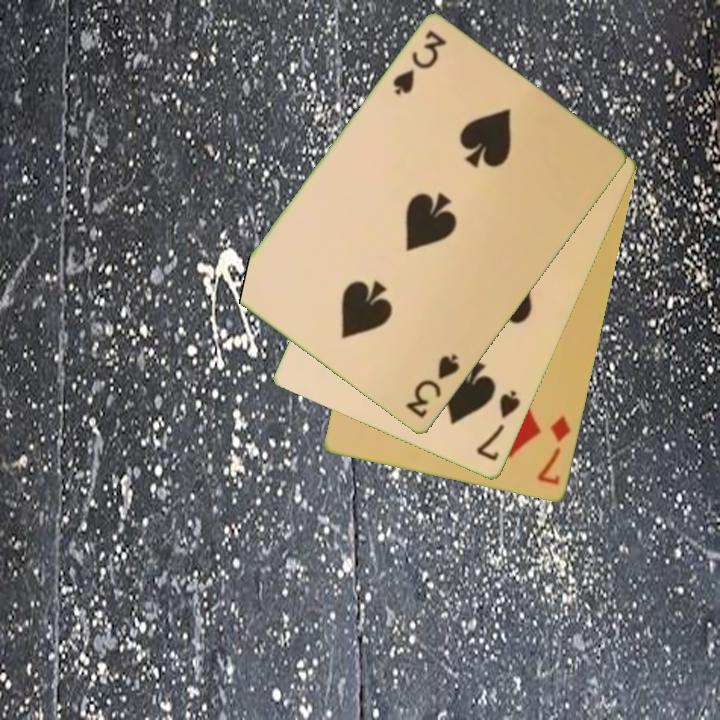3s: (389, 27, 450, 99), (402, 351, 463, 422)
7d: (534, 413, 574, 489)
7s: (473, 387, 524, 464)
